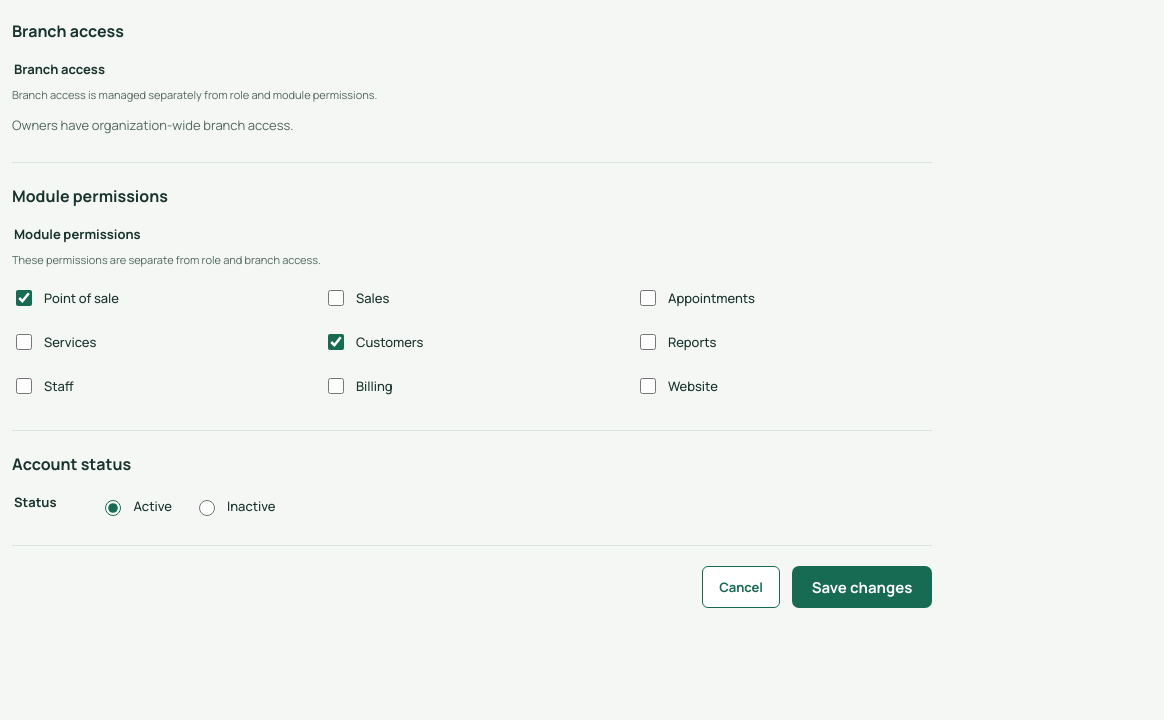
it: User Management pages › shows backend owner-protection rejection in safe language
(page scrolled)
Click the radio button labelled "Inactive": point(207, 508) [199,500,215,516]
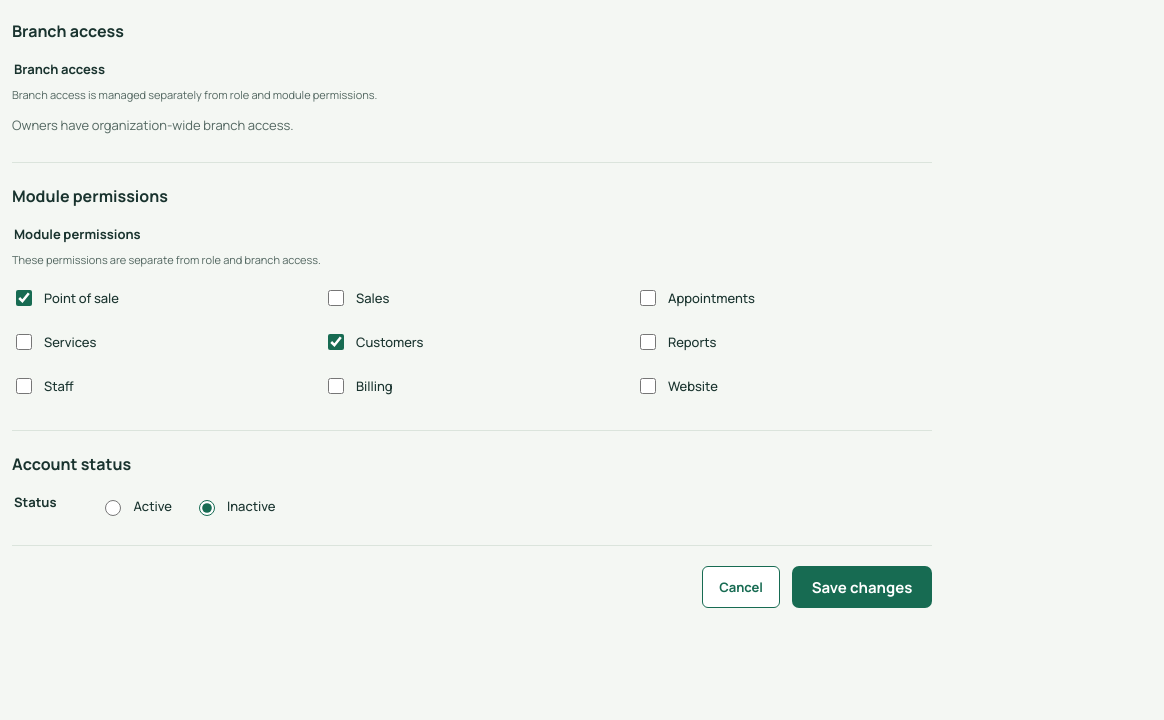
Click the button "Save changes": point(862, 587) [792,566,932,608]
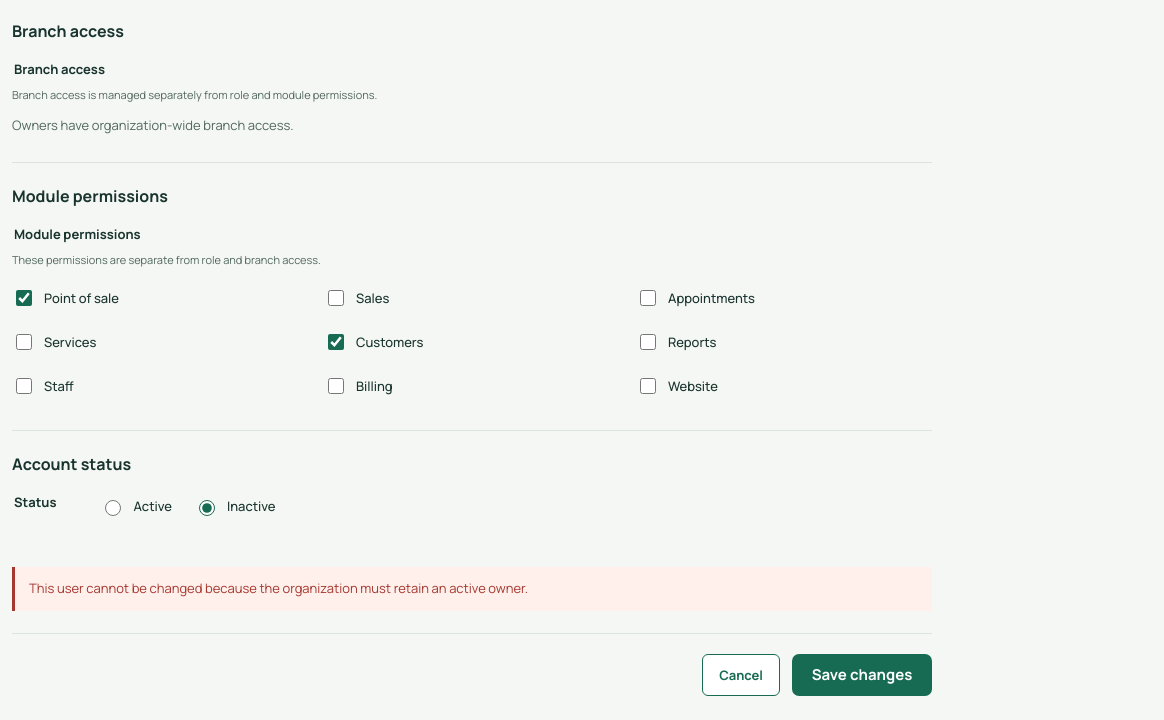
expect the message shows "This user cannot be changed because the organization must retain an active owner.": met, box [29,579,528,597]
